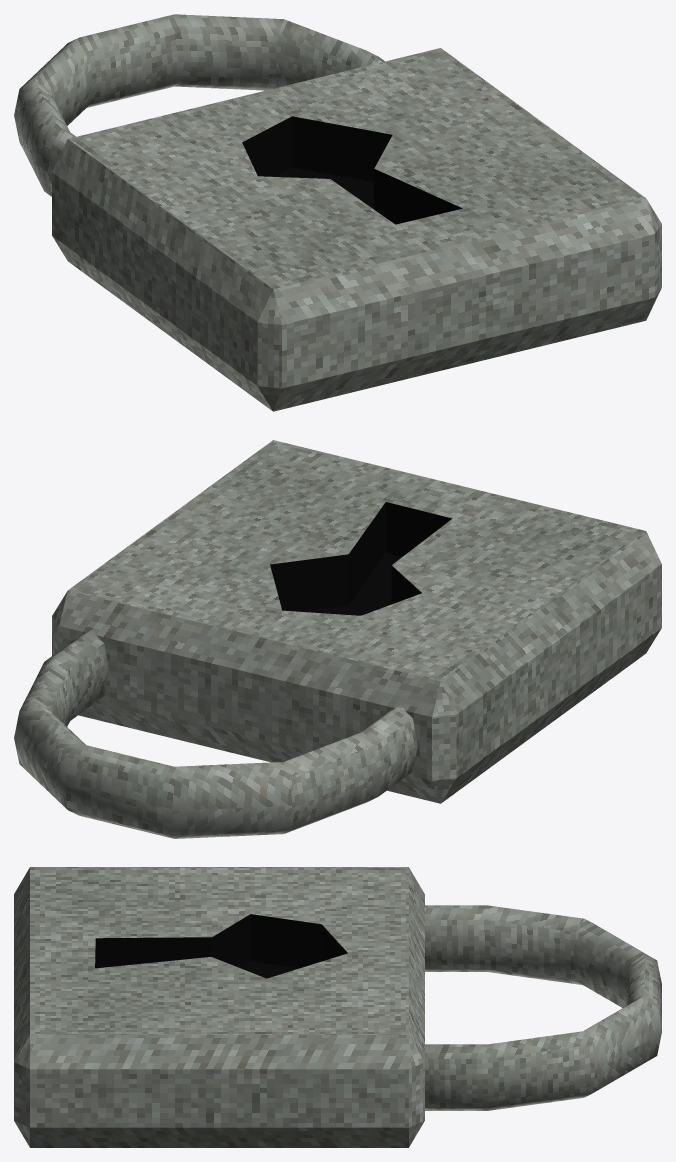
The model's file is lock.glb.
3 views of the same model, one above another, from view 1: azimuth 30°, elevation 25°; view 2: azimuth 150°, elevation 25°; view 3: azimuth 270°, elevation 25° (orthographic). The views are drawn at different scales.
Visible parts, largest first — view 1: Plane, Plane.001; view 2: Plane, Plane.001; view 3: Plane, Plane.001.
Part boxes in pixels (x1,y1,x2,y2): Plane: (52, 48, 661, 411); Plane.001: (14, 14, 384, 196); Plane: (52, 440, 661, 803); Plane.001: (14, 630, 417, 838); Plane: (14, 867, 424, 1147); Plane.001: (423, 905, 661, 1110).
Bounding box in the file's own units: 0.2096 × 0.0606 × 0.3154.
2 materials, 1 textured.
